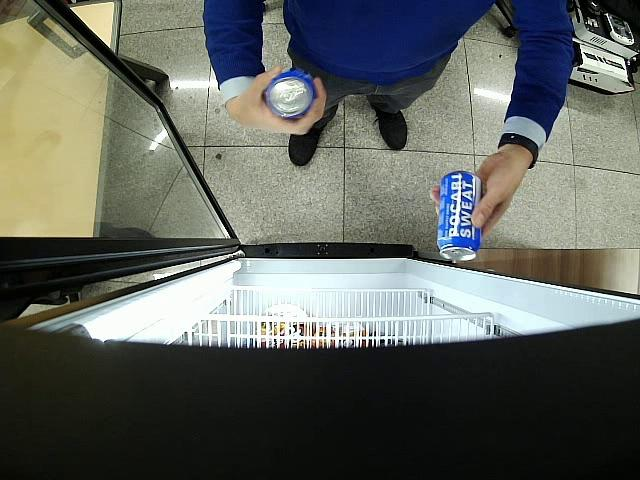00_hand: (429, 149, 532, 237), (226, 64, 326, 136)
13_pocariSweat: (437, 170, 480, 261), (264, 70, 316, 121)
